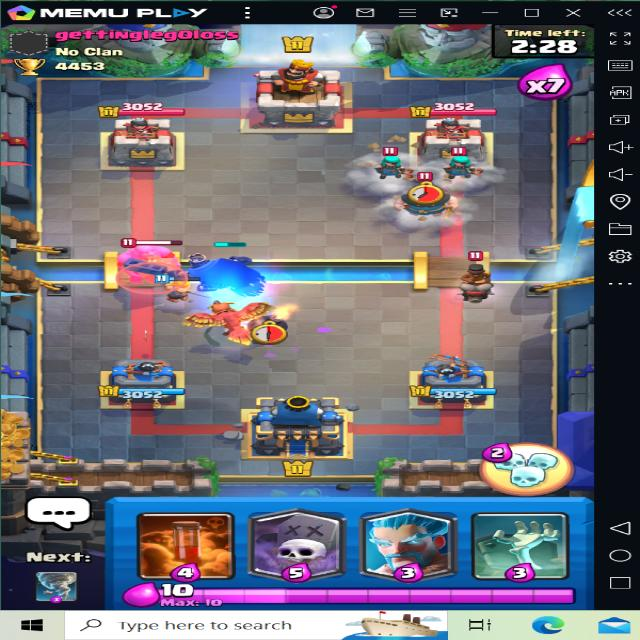bowler: (116, 237, 184, 291)
ram-rider: (453, 247, 507, 299)
rascal-boy: (392, 172, 464, 216)
rascal-girl: (442, 147, 487, 181), (373, 148, 415, 178)
